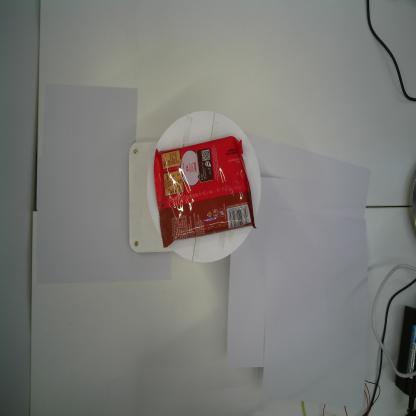Dessert: (153, 135, 258, 249)
